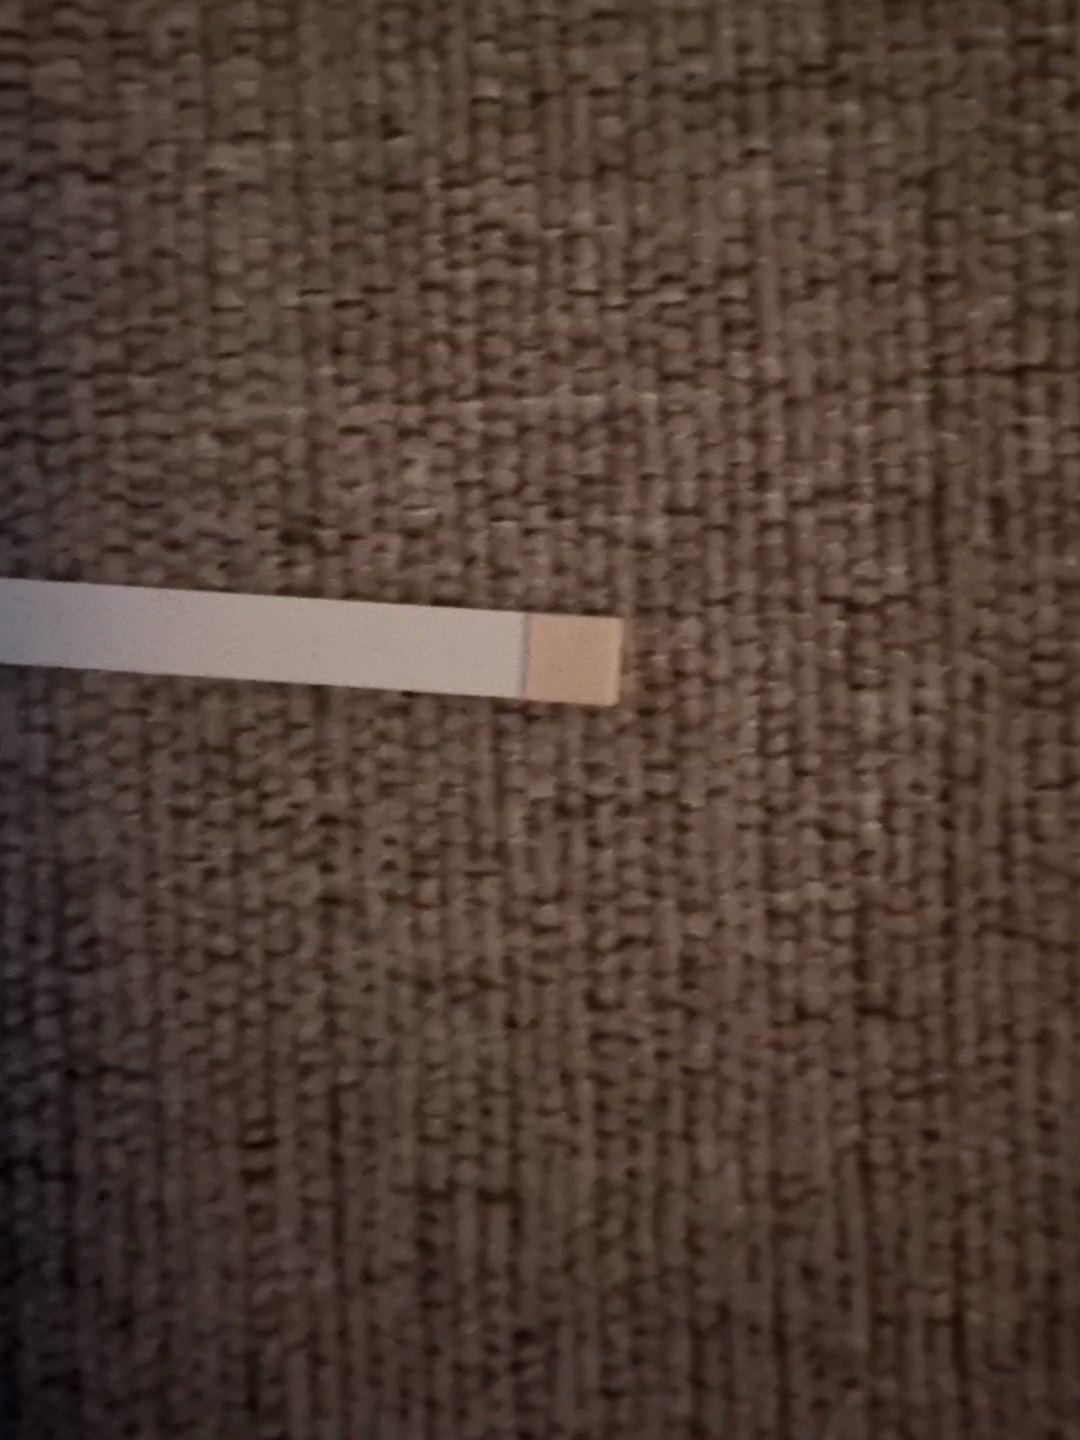keto-tip: (518, 605, 628, 717)
